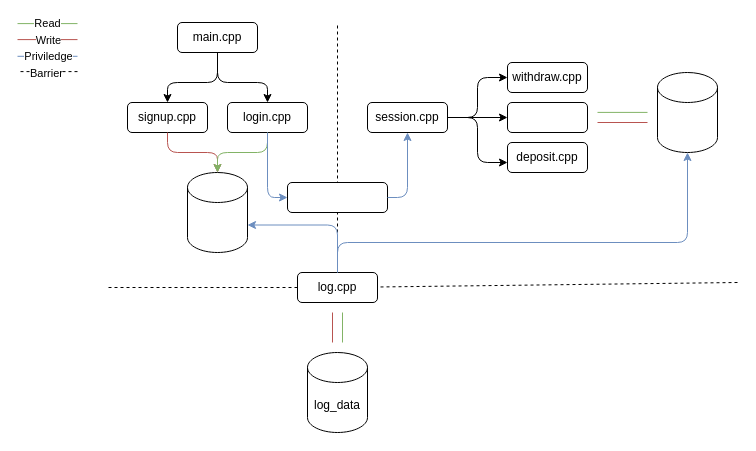
This 756x451 diagram has some shape labels left out. The shapes that lost their labels are listed below. From the top down, each one's box as (x1, y1, x2, y2) in pixels, then its label:
(506, 102, 588, 132): remove.cpp
(656, 72, 718, 152): user_data
(186, 172, 248, 252): user_login
(286, 182, 388, 212): transaction.cpp
